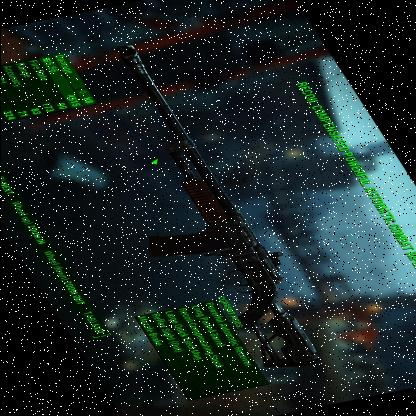rifle: (28, 34, 352, 376)
